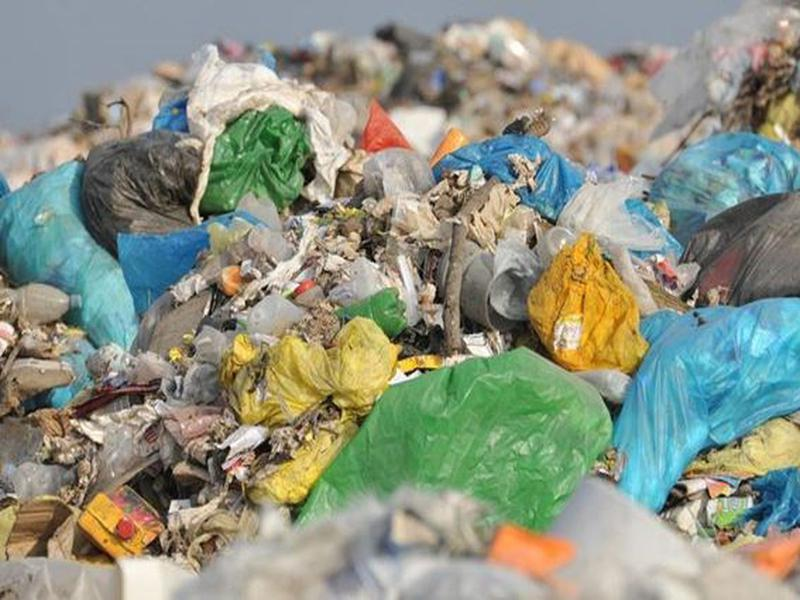plastic: (290, 339, 613, 566), (609, 284, 800, 514), (209, 307, 403, 504), (1, 154, 136, 350), (79, 130, 219, 255), (557, 168, 665, 315), (431, 128, 589, 222), (651, 127, 797, 223), (685, 192, 800, 307), (112, 226, 220, 326), (359, 142, 434, 198)
